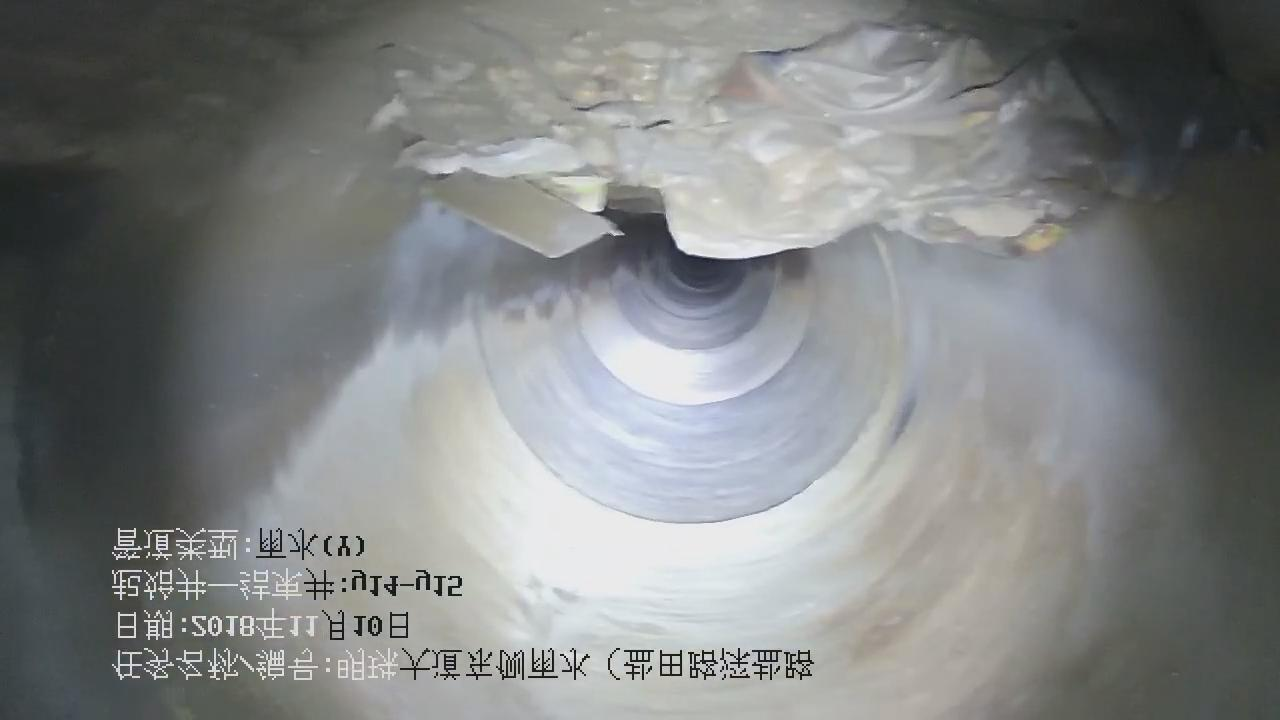ZAW: (375, 1, 1255, 258)
